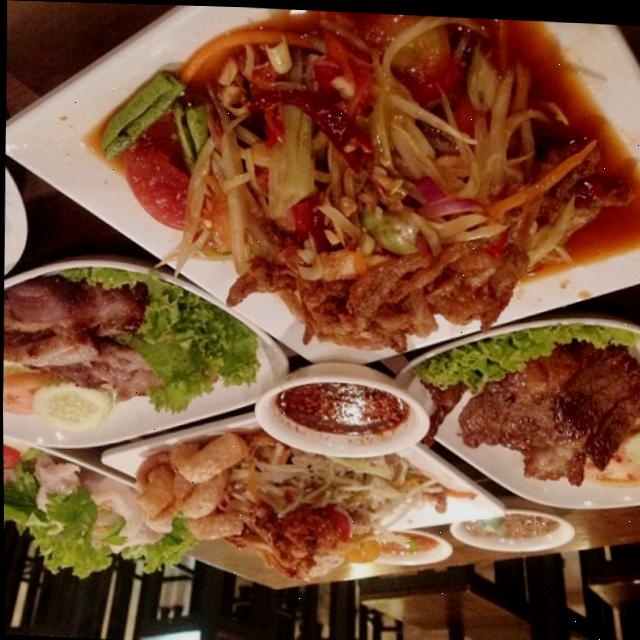蔬菜料理: (99, 2, 623, 381)
